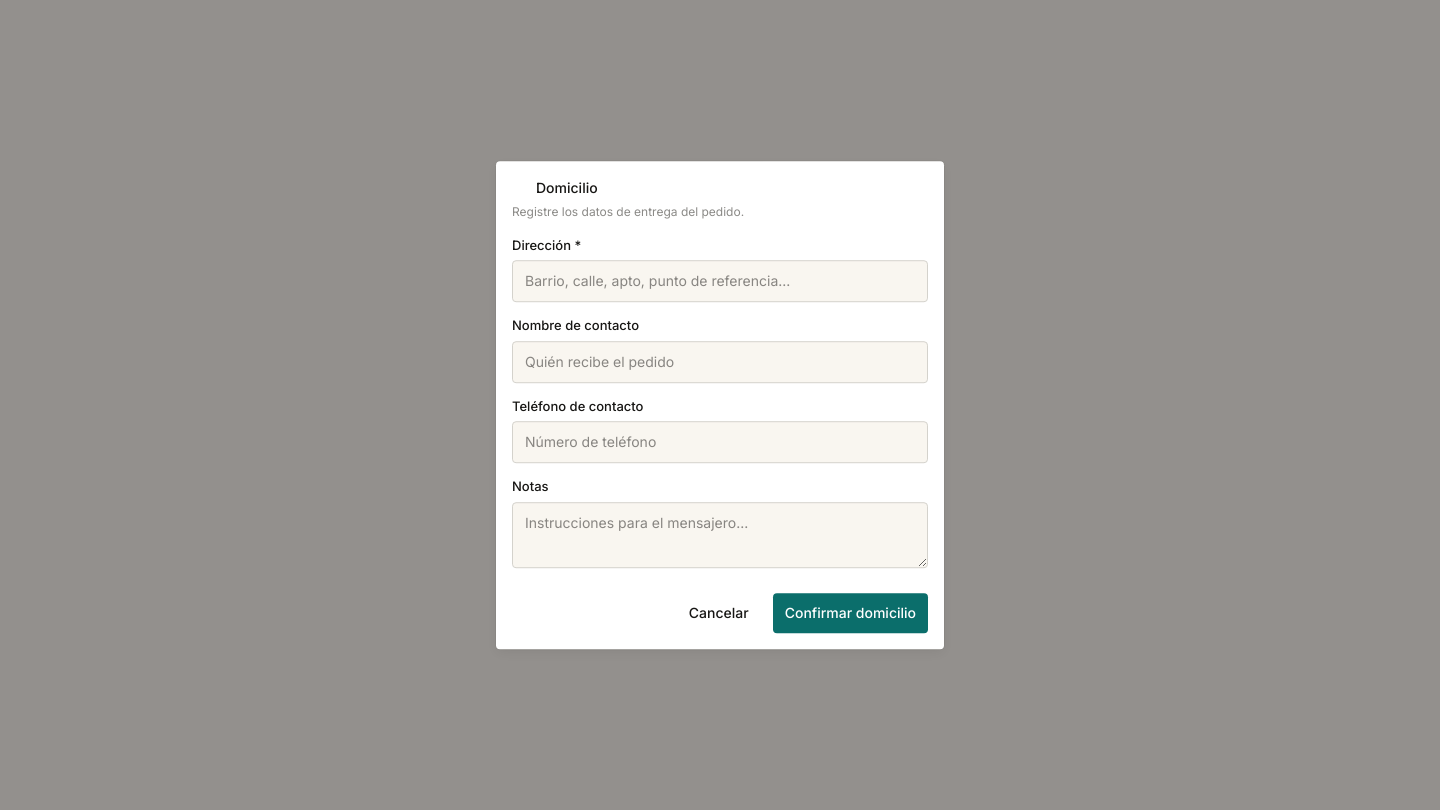
Test: DeliveryFormDialog › shows the client-required error when a client is required but none is selected
The width and height of the screenshot is (1440, 810).
Click the button "Confirmar domicilio" at (850, 613), box 773,593 -> 928,633
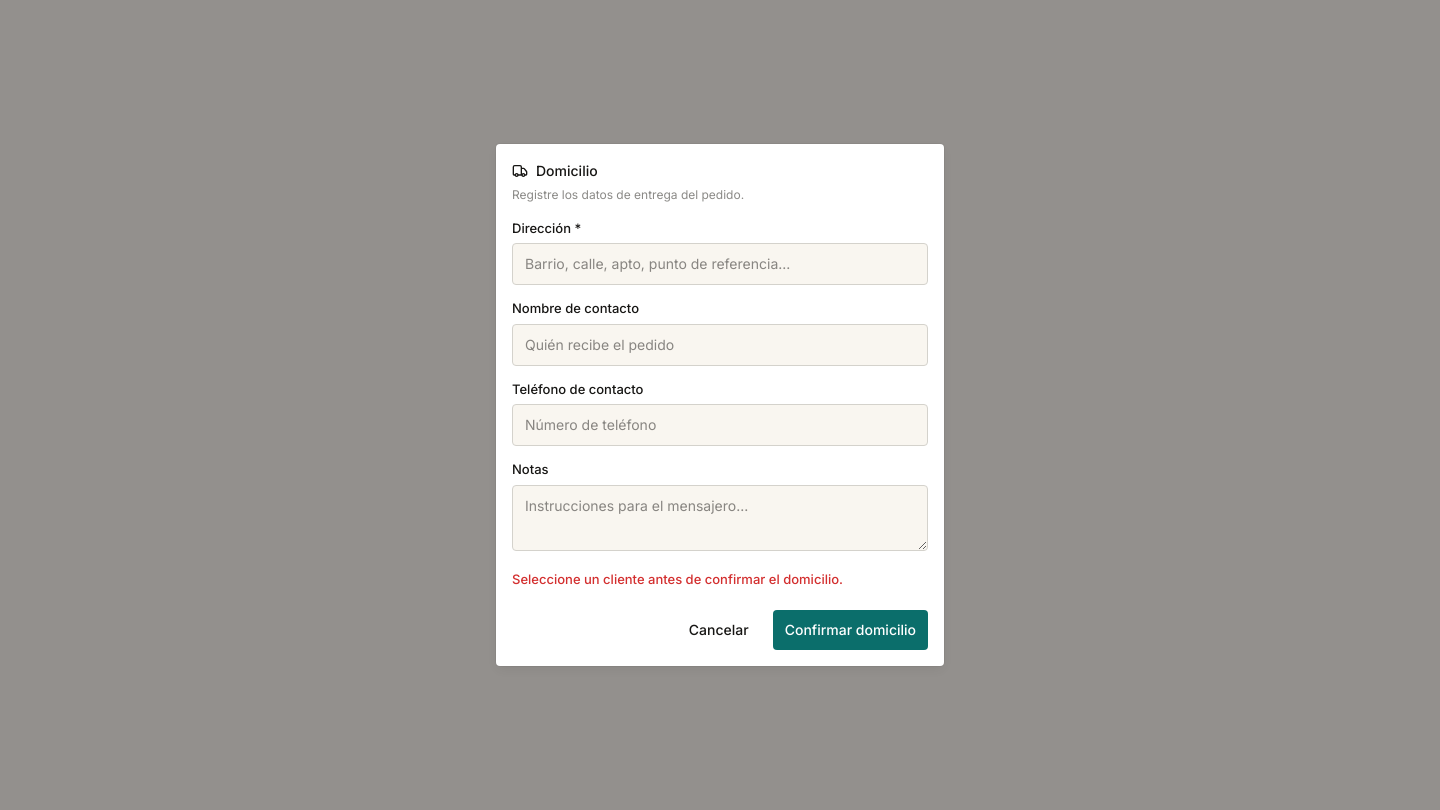
Expected: the message reads "Seleccione un cliente antes de confirmar el domicilio.", 512,571 -> 843,587
